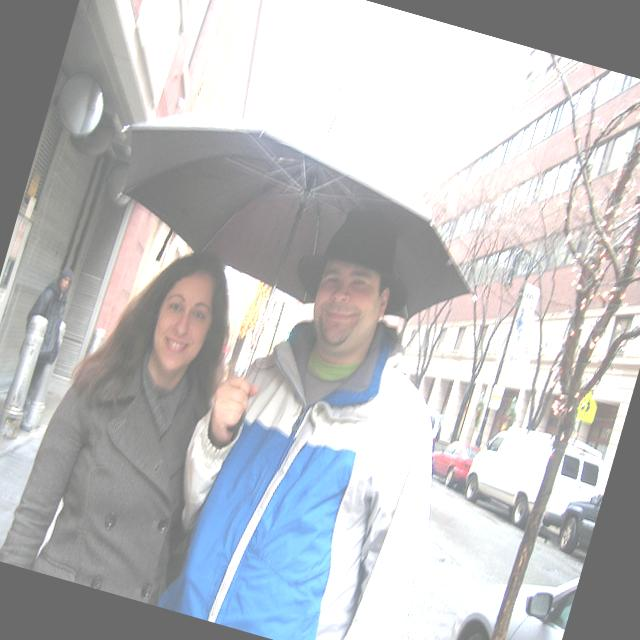Vehicle: (458, 412, 614, 546), (434, 543, 580, 640), (551, 482, 604, 561), (423, 436, 480, 494), (416, 406, 445, 453)
